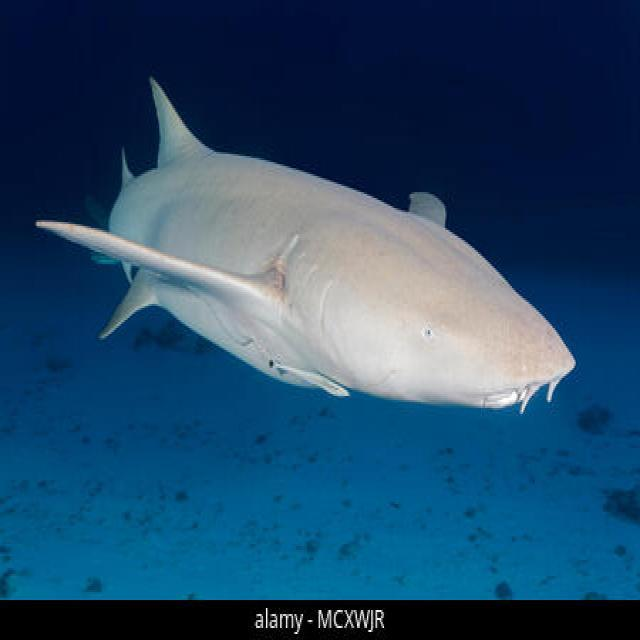Shark: (21, 46, 573, 428)
